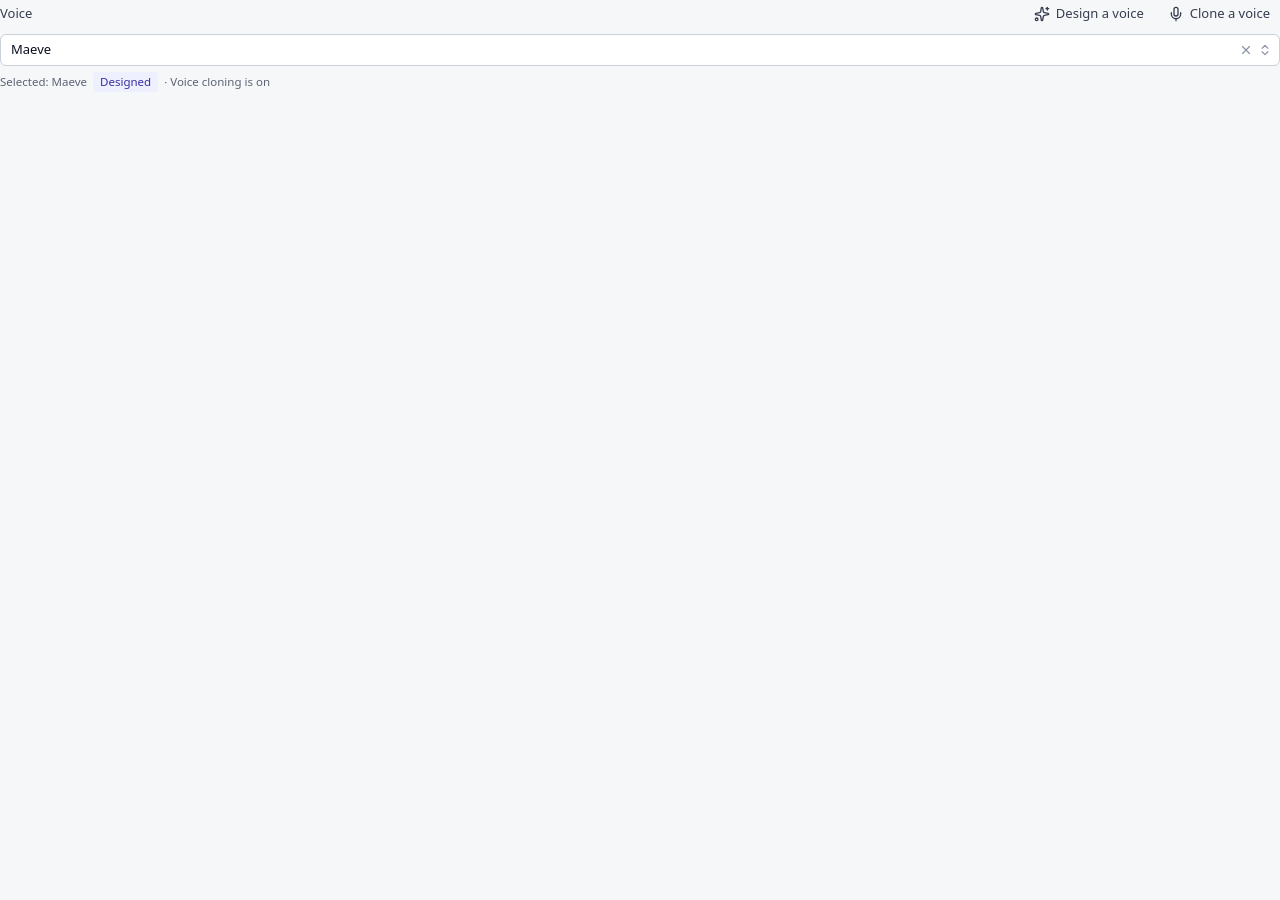
Test case: PocketVoicePicker with a voice design server › offers Design a voice when the server can, and badges designed voices
Expected: the text "Selected: Maeve" is shown, x1=0 y1=72 x2=270 y2=92
Expected: the text "Designed" is shown, x1=93 y1=72 x2=158 y2=92
Click the button "Design a voice" at (1089, 14), box x1=1024 y1=0 x2=1154 y2=28
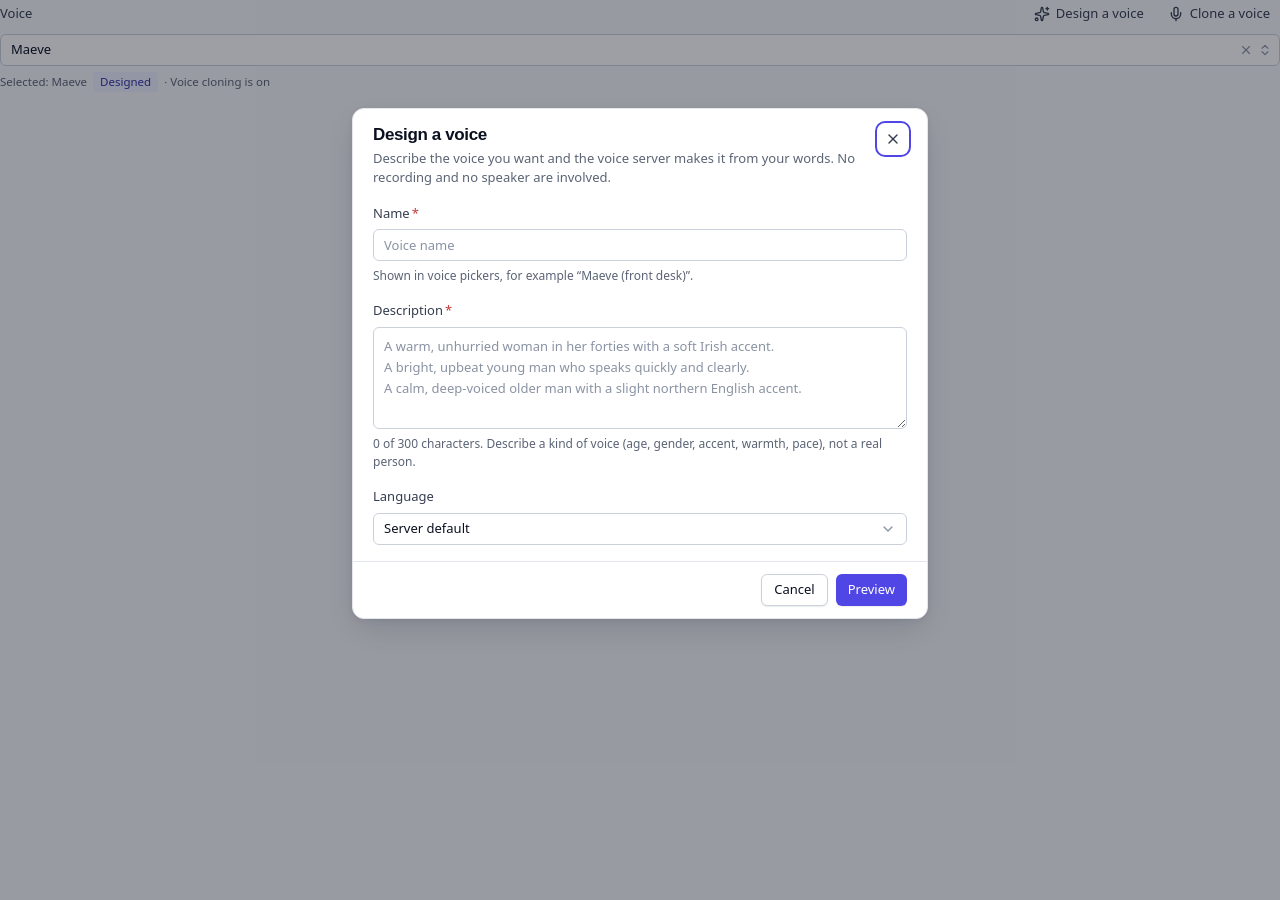
Result: the heading "Design a voice" is shown at x1=373 y1=125 x2=487 y2=144
